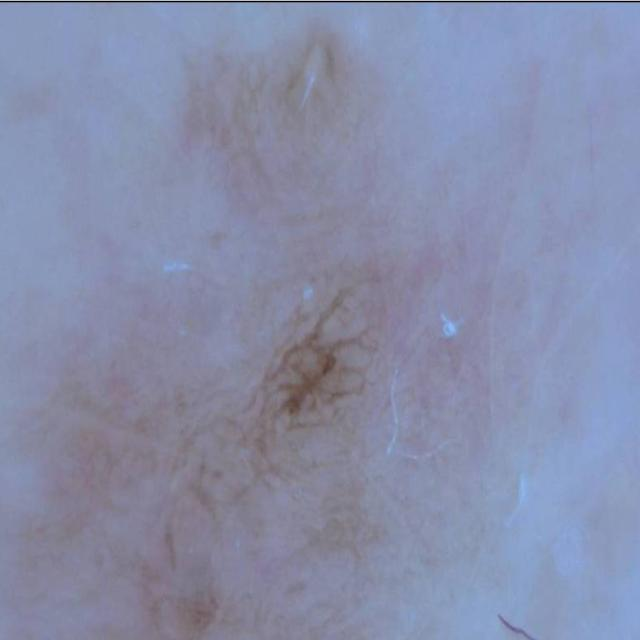Melanoma: (240, 301, 396, 489)
